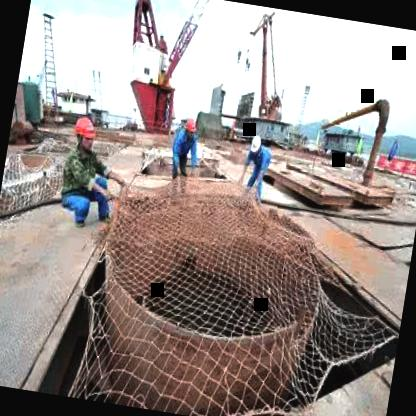helmet: (68, 114, 100, 151), (181, 116, 197, 142), (248, 134, 264, 158)
